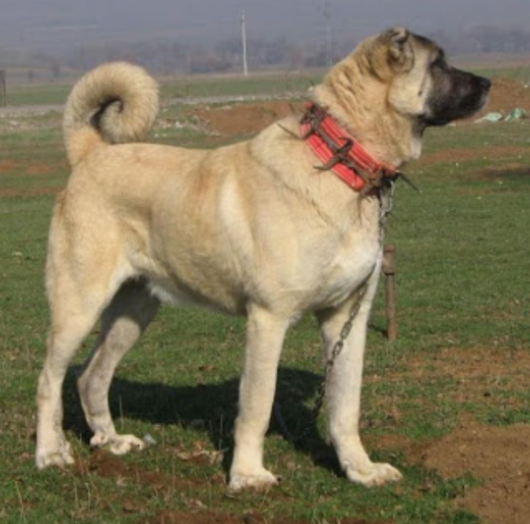dog: (30, 21, 499, 481)
